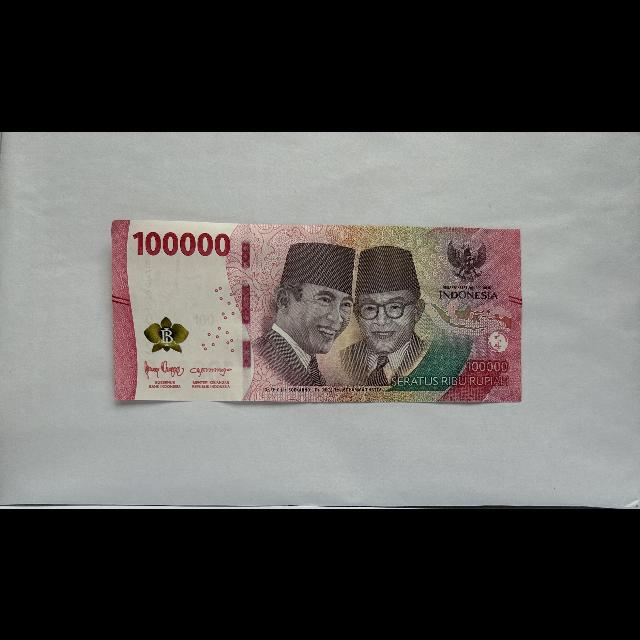Asli-100k: (111, 218, 524, 404)
Tinta-Asli-100k: (143, 314, 190, 353)
